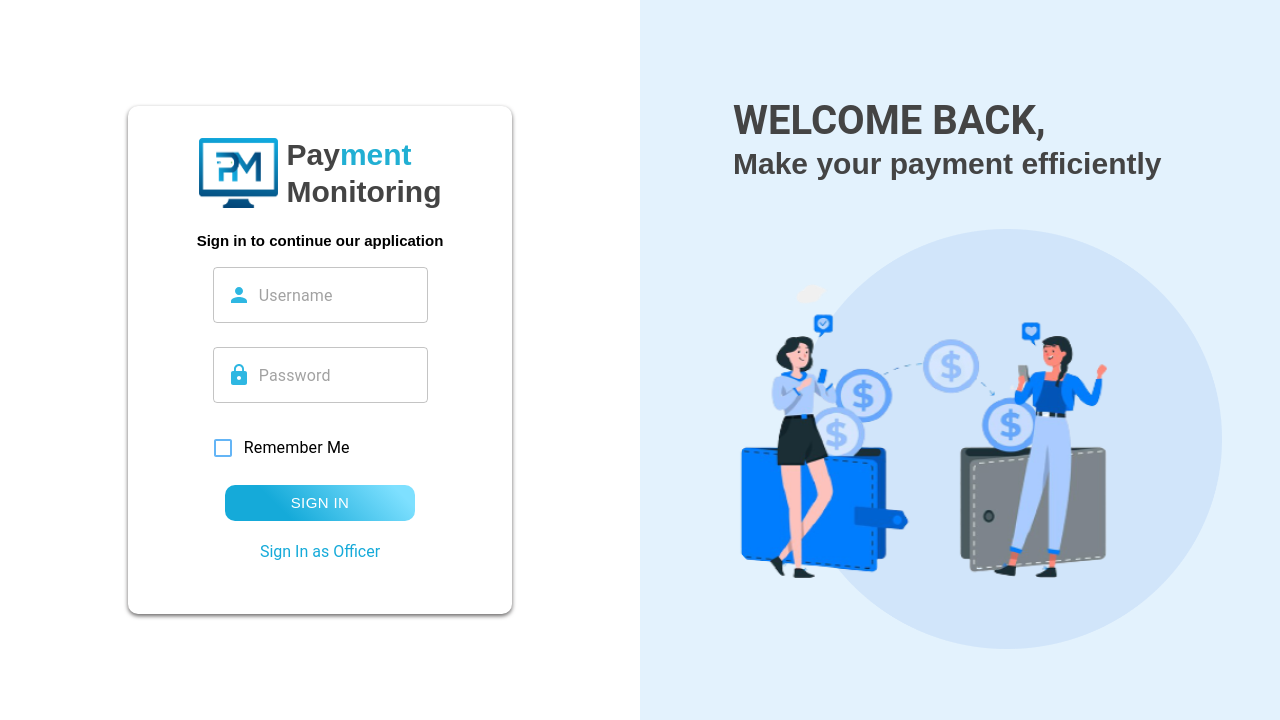
Test: Negative case Customer Login › show error when password input empty
Type "myuser" into the element with test id "txt-username" at (321, 295), box [213,267,428,323]
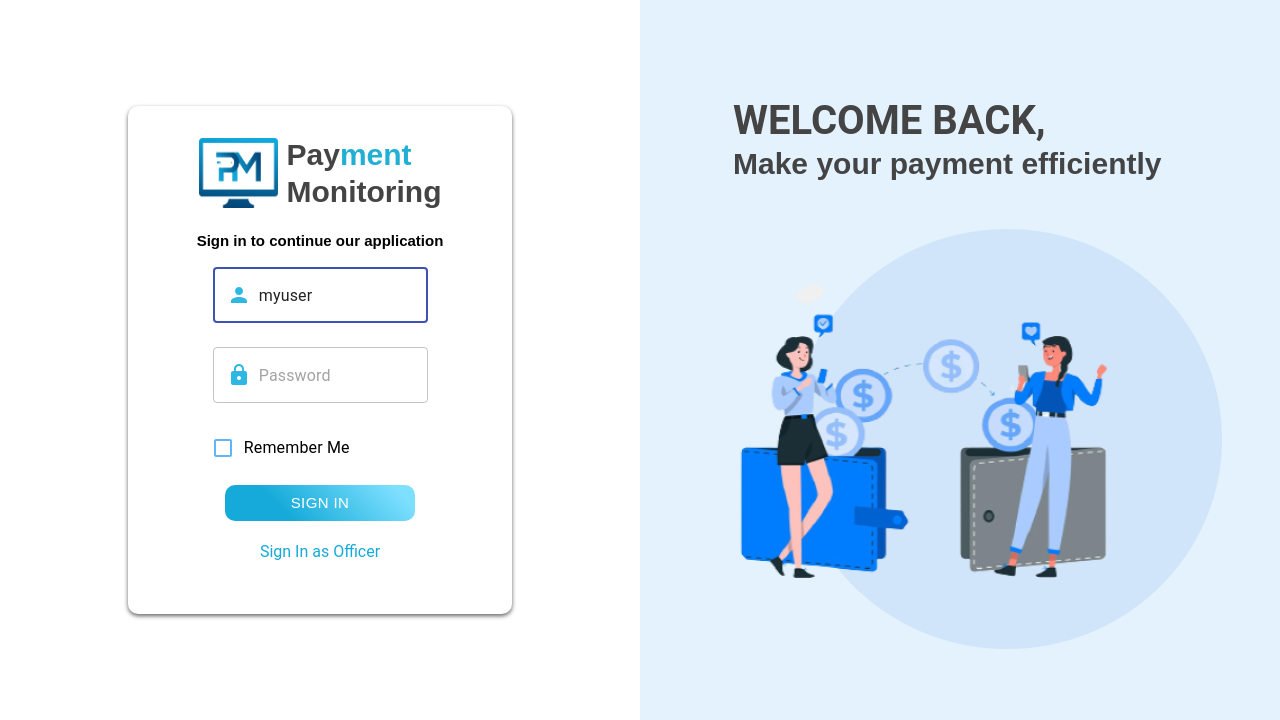
Click the button with test id "btn-submit" at (320, 503), box [225,485,415,521]
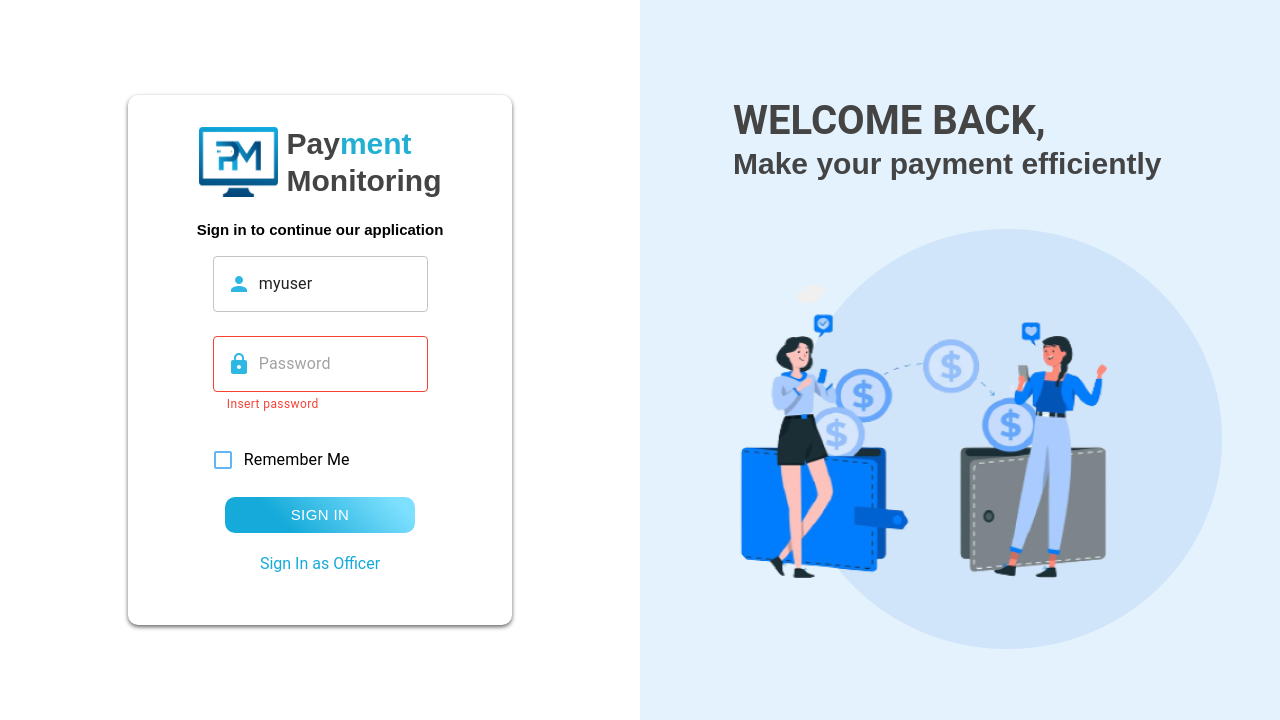
Now the text "Insert password" is shown, box [227,397,319,411]
